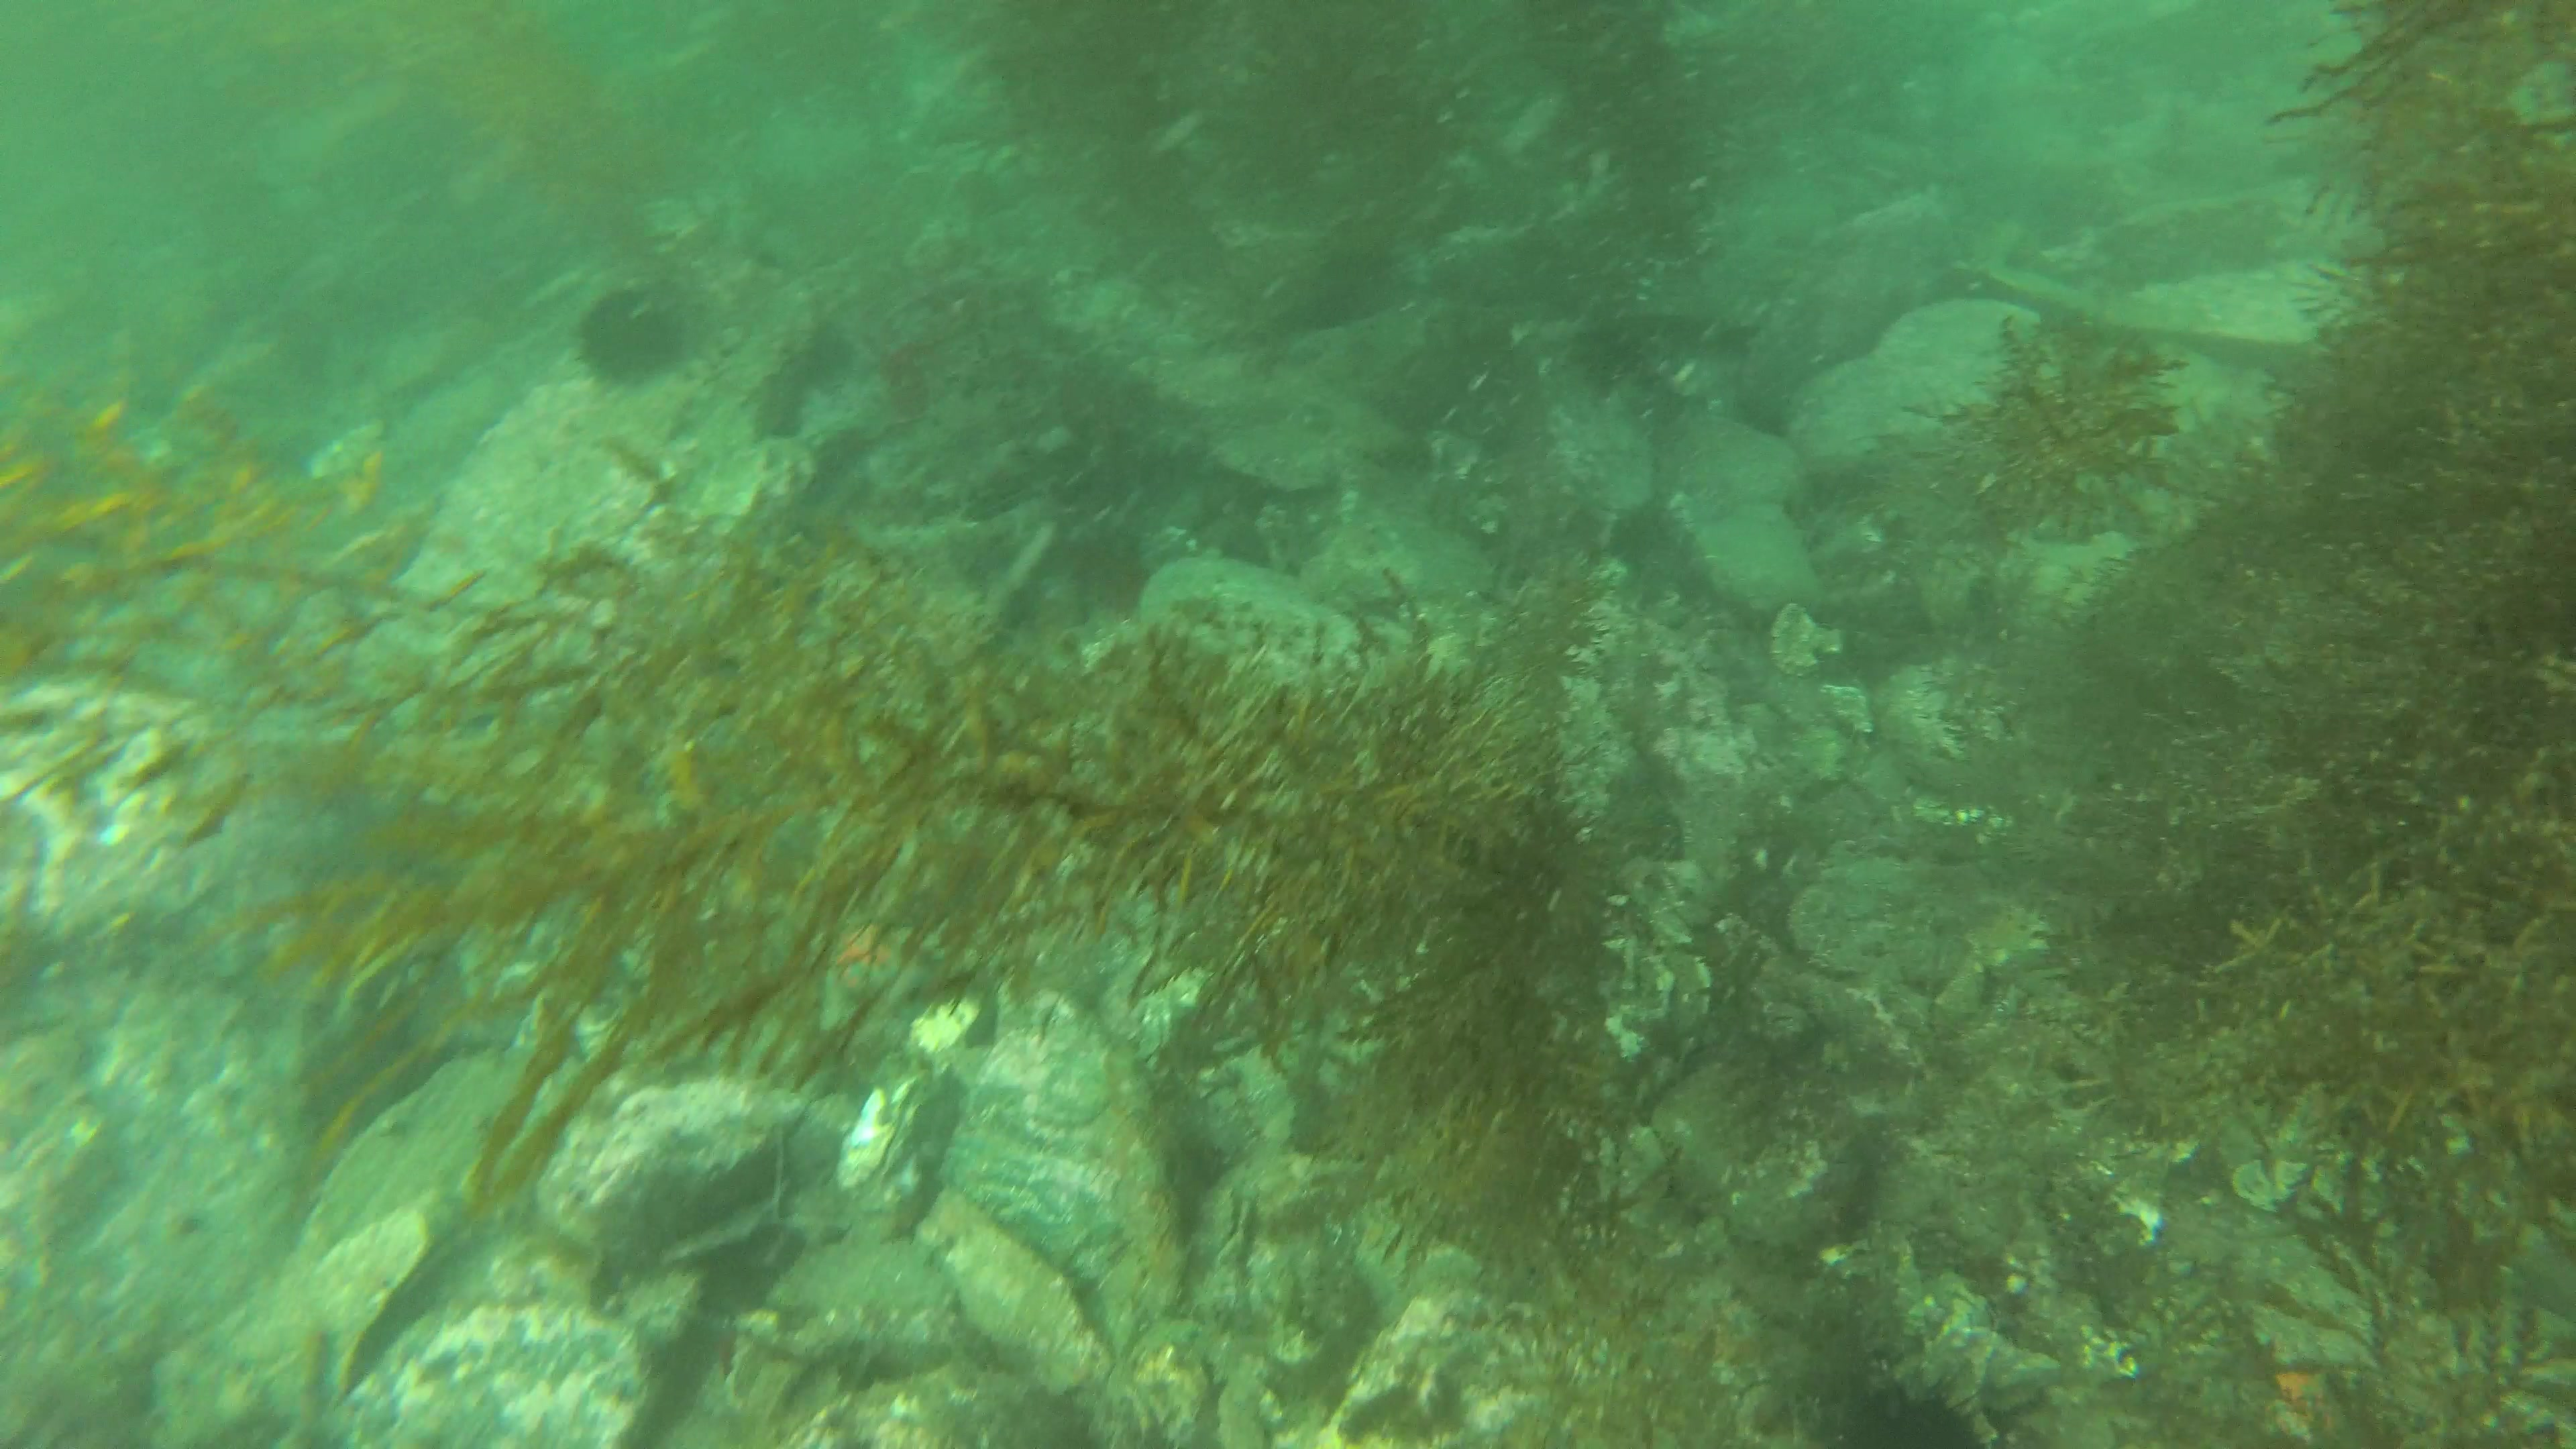echinus: (571, 278, 694, 396)
